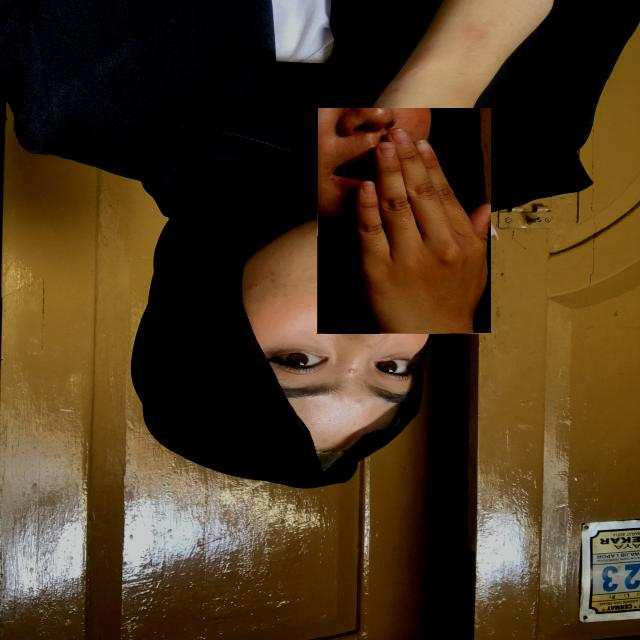ngantuk: (317, 108, 491, 334)
